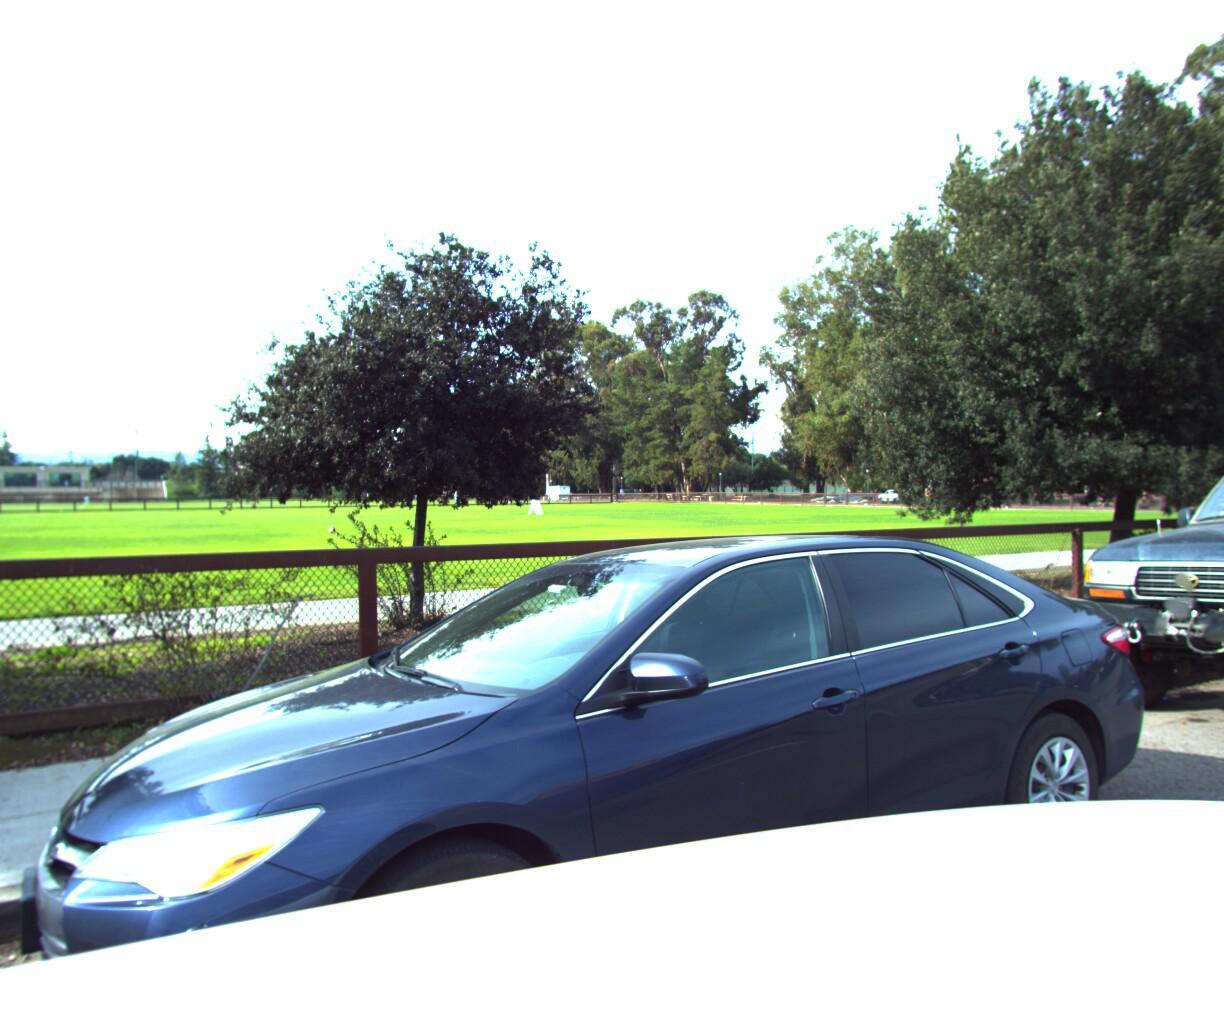car: (0, 514, 1194, 1024), (1054, 411, 1224, 799)
